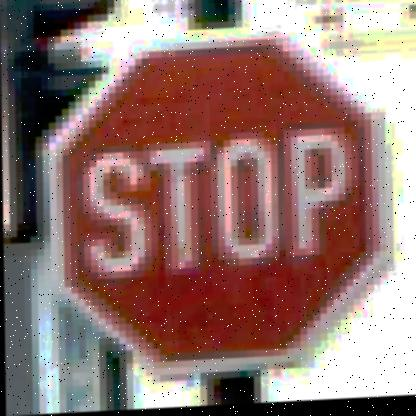Stop Sign: (37, 27, 390, 383)
